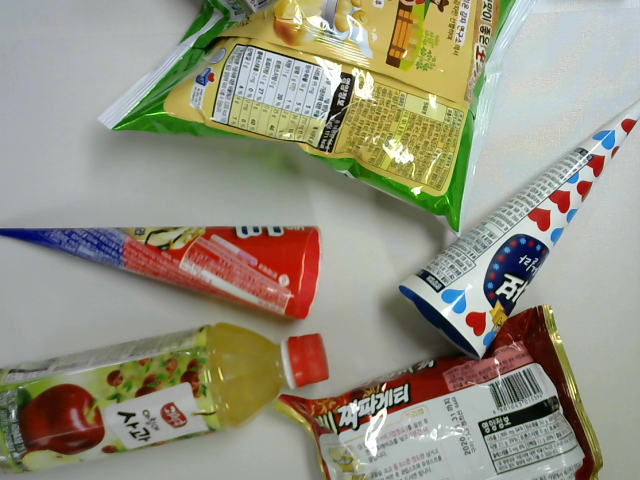Bravo_Cone_(Banila)_CVS: (396, 89, 640, 365)
Morning_Apple_500ml: (1, 318, 341, 478)
Pocachip_Onion: (92, 1, 543, 242)
Sichuan_Chapaghetti: (269, 302, 608, 480)
World_Cone_Banila: (1, 214, 328, 325)
